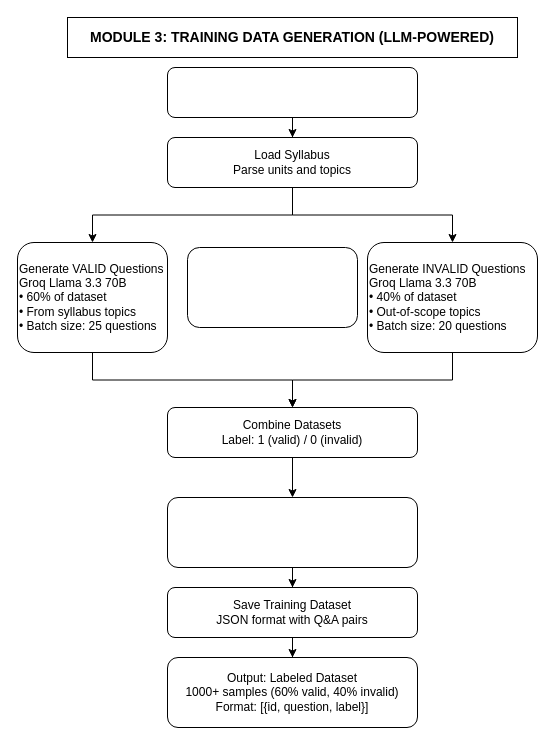
This 555x745 diagram has some shape labels left out. The shapes that lost their labels are listed below. From the top down, each one's centre as x and y in pixels, then its label:
At (x=292, y=92): "Input: Syllabus JSON (Units, Topics, Subtopics)".
At (x=272, y=287): "Example Questions: Valid: 'What is a binary tree?' Invalid: 'Who won World Cup?'".
At (x=292, y=532): "LLM Label Verification Sample 10% for quality check Correct mislabeled questions".
